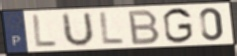0: (198, 7, 224, 42)
B: (127, 8, 162, 46)
G: (162, 7, 195, 45)
L: (32, 13, 59, 49), (99, 11, 126, 46)
U: (62, 11, 96, 49)
